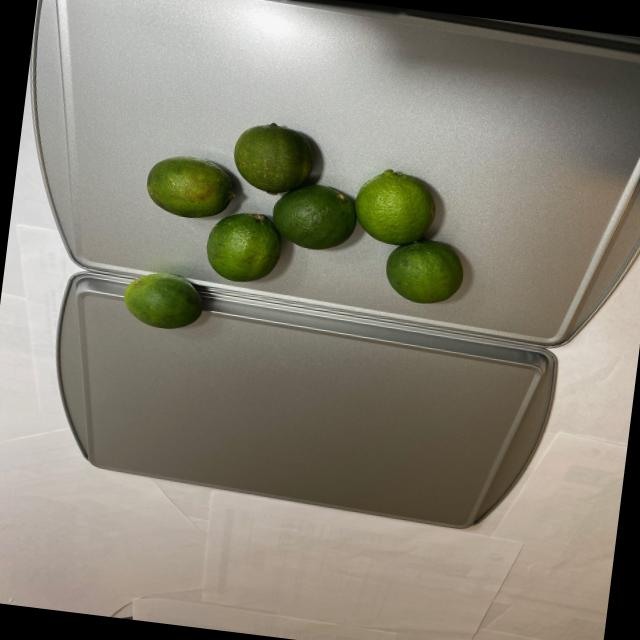lemon: (118, 104, 478, 363)
